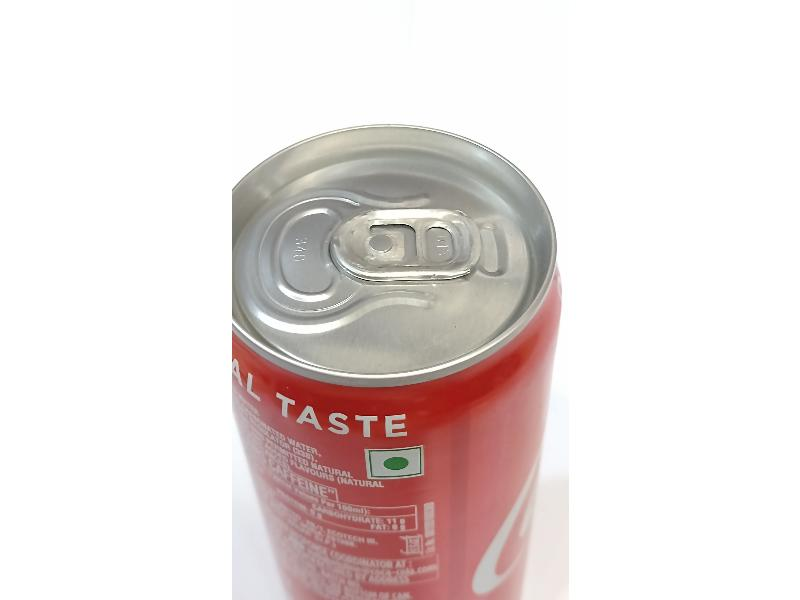can: (231, 116, 569, 581)
